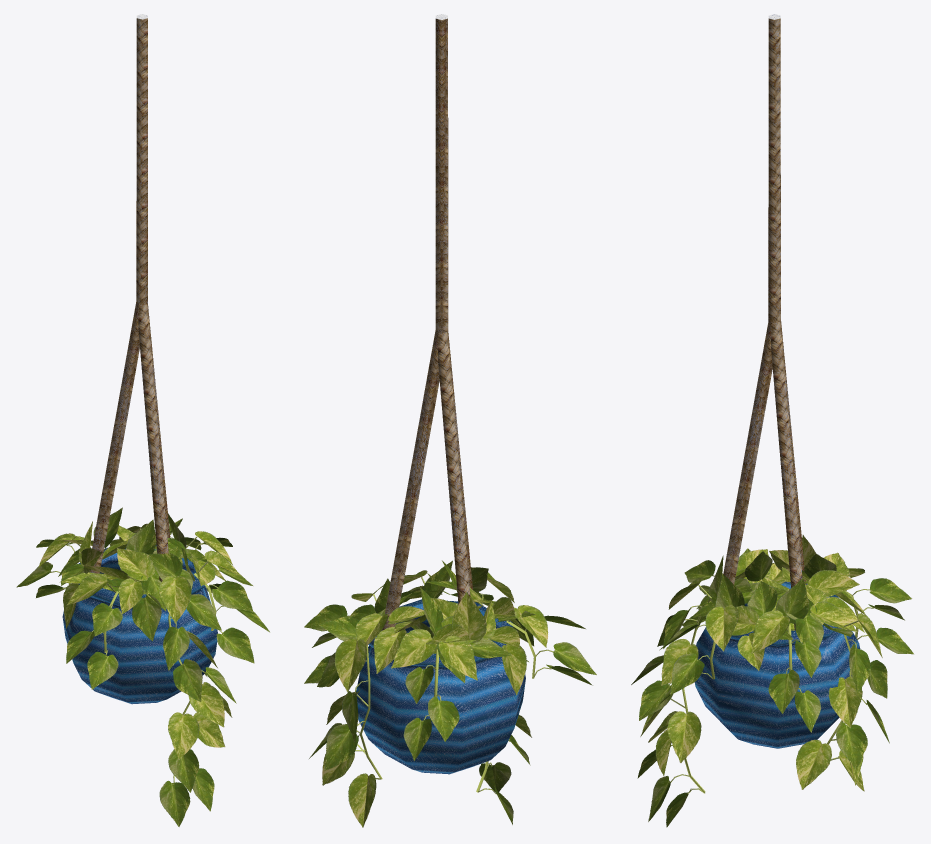
Rendered from Hanging_Pot202.dae.
The picture shows the model from 3 angles, left to right: view 1: azimuth 30°, elevation 25°; view 2: azimuth 150°, elevation 25°; view 3: azimuth 270°, elevation 25°; orthographic projection. The views are drawn at different scales.
Visible parts, largest first — view 1: leaf2a (×14), hanging_pot, zulurope (×3), leaf1a (×7), SketchUp; view 2: hanging_pot, leaf1a (×9), zulurope (×3), leaf2a (×10), SketchUp; view 3: hanging_pot, leaf2a (×15), leaf1a (×10), zulurope (×3), SketchUp.
Boxes of the visible parts, box(x1,y1,x2,y2) form: leaf2a (×14): box(66, 519, 254, 826); hanging_pot: box(62, 545, 217, 704); zulurope (×3): box(89, 302, 170, 581); leaf1a (×7): box(66, 548, 225, 759); SketchUp: box(136, 18, 147, 305); hanging_pot: box(356, 599, 525, 774); leaf1a (×9): box(334, 592, 548, 827); zulurope (×3): box(381, 330, 472, 630); leaf2a (×10): box(304, 587, 596, 792); SketchUp: box(435, 18, 448, 333); hanging_pot: box(694, 581, 860, 748); leaf2a (×15): box(639, 551, 913, 769); leaf1a (×10): box(661, 570, 862, 789); zulurope (×3): box(723, 321, 806, 630); SketchUp: box(768, 18, 780, 323).
Size of the model in its own units: 19.99 by 20.64 by 64.84.
Materials: 7 (4 with a texture image).
